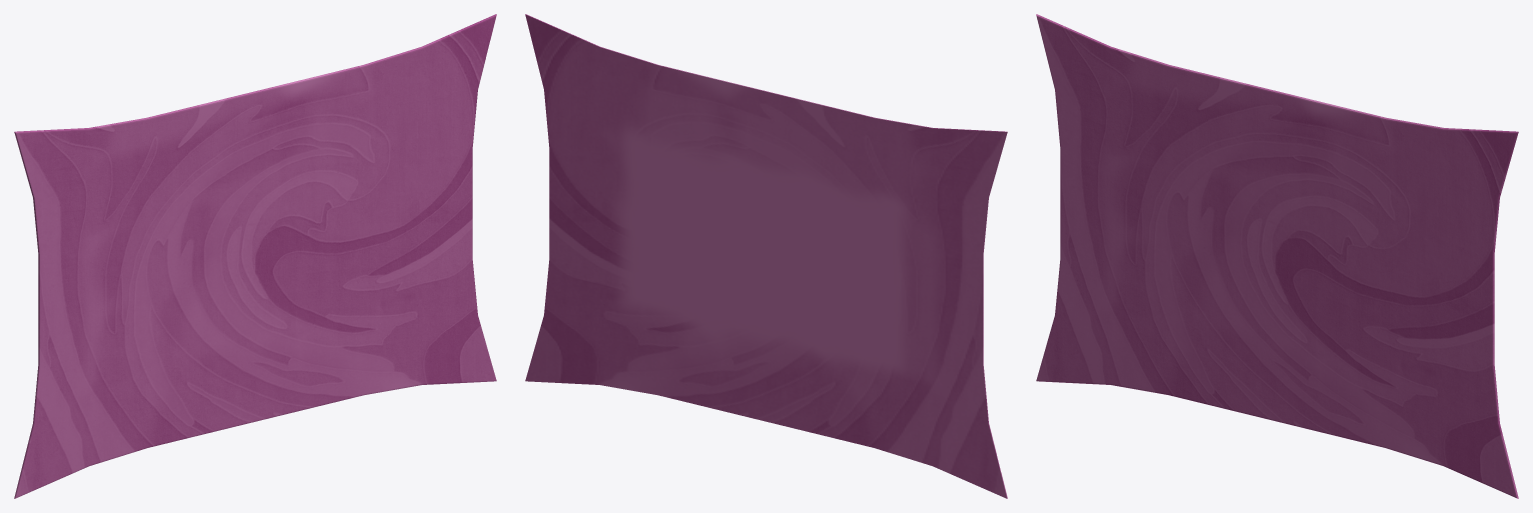
The model's file is Carpet.obj.
The picture shows the model from 3 angles, left to right: view 1: azimuth 30°, elevation 25°; view 2: azimuth 150°, elevation 25°; view 3: azimuth 330°, elevation 25°; orthographic projection.
Parts seen in each view (by area): view 1: Carpet; view 2: Carpet; view 3: Carpet.
Boxes of the visible parts, x1,y1,x2,y2 form: Carpet: (14,14,496,498); Carpet: (525,14,1007,498); Carpet: (1036,14,1518,498).
Bounding box in the file's own units: 1223 × 890 × 5.
